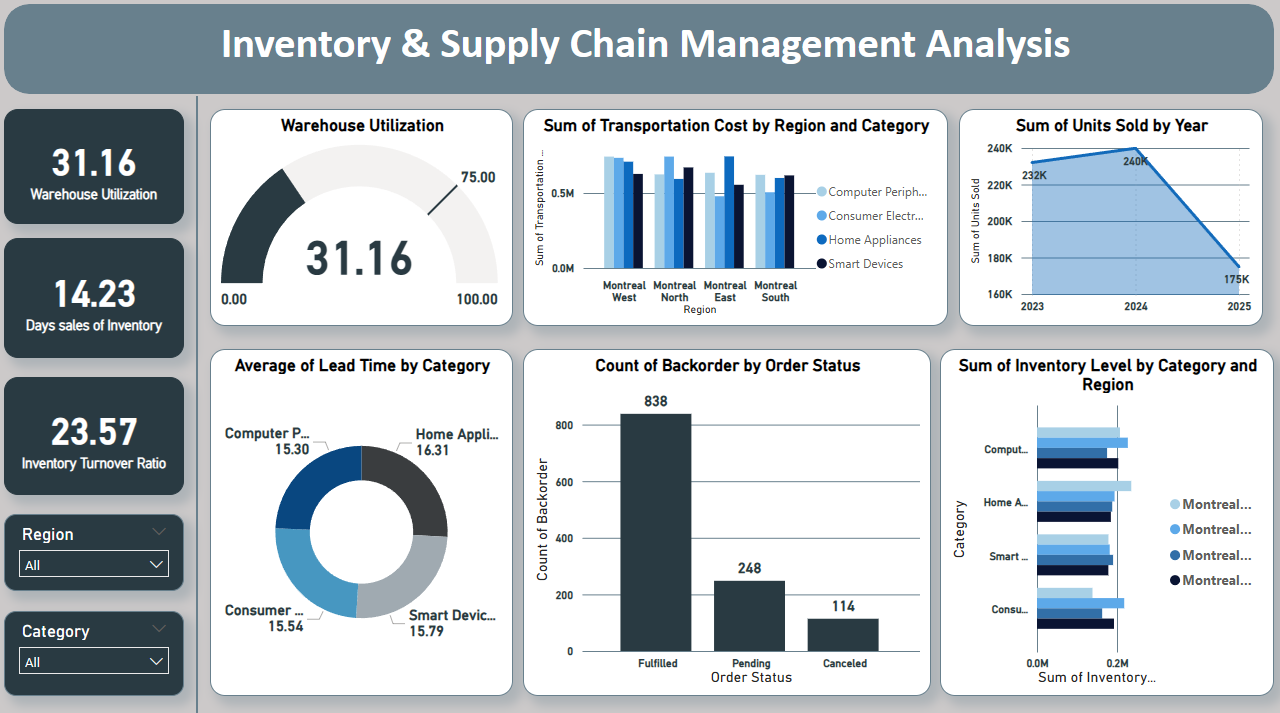

What the dashboard file says about the page in this screenshot:
{"tool":"powerbi","page":{"name":"Page 1","canvas":[1280,720],"ordinal":0},"visuals":[{"type":"shape","box":[10,5.6,1270,90],"z":0},{"type":"shape","box":[184.4,97.8,25.6,622.2],"z":2000},{"type":"card","fields":{"Values":["Inventory & Supply Chain Dataset.Warehouse Utilization"]},"box":[4.4,111.1,180,114.4],"z":3000},{"type":"card","fields":{"Values":["Inventory & Supply Chain Dataset.Days sales of Inventory"]},"box":[4.4,240,180,120],"z":4000},{"type":"card","fields":{"Values":["Inventory & Supply Chain Dataset.Inventory Turnover Ratio"]},"box":[4.4,378.9,180,117.8],"z":5000},{"type":"slicer","fields":{"Values":["Inventory & Supply Chain Dataset.Region"]},"box":[4.4,515.6,180,77.8],"z":6000},{"type":"slicer","fields":{"Values":["Inventory & Supply Chain Dataset.Category"]},"box":[4.4,613.3,180,84.4],"z":7000},{"type":"gauge","fields":{"Y":["Inventory & Supply Chain Dataset.Warehouse Utilization"]},"box":[210,111.1,303.3,216.7],"z":8000},{"type":"clusteredColumnChart","fields":{"Y":["Sum(Inventory & Supply Chain Dataset.Transportation Cost)"],"Category":["Inventory & Supply Chain Dataset.Region"],"Series":["Inventory & Supply Chain Dataset.Category"]},"box":[523.3,111.1,424.4,216.7],"z":9000},{"type":"lineChart","title":"Sum of Units Sold by Year","fields":{"Y":["Sum(Inventory & Supply Chain Dataset.Units Sold)"],"Category":["SmartInventory360_Dataset_DatesFixed.Date"]},"box":[958.9,111.1,304.4,216.7],"z":10000},{"type":"donutChart","fields":{"Y":["Avg(Inventory & Supply Chain Dataset.Lead Time)"],"Category":["Inventory & Supply Chain Dataset.Category"]},"box":[210,351.1,303.3,346.7],"z":11000},{"type":"columnChart","fields":{"Y":["CountNonNull(Inventory & Supply Chain Dataset.Backorder)"],"Category":["Inventory & Supply Chain Dataset.Order Status"]},"box":[523.3,351.1,407.8,346.7],"z":12000},{"type":"clusteredBarChart","fields":{"Y":["Sum(Inventory & Supply Chain Dataset.Inventory Level)"],"Category":["Inventory & Supply Chain Dataset.Category"],"Series":["Inventory & Supply Chain Dataset.Region"]},"box":[940,351.1,334.4,346.7],"z":12001},{"type":"textbox","box":[197.8,13.3,900,74.4],"z":12002}]}

Visuals, with their boxes in screenshot pixels (x1, y1, x2, y2), scaled from the page's 1280x720 canvas onto the 1280x713 screenshot:
shape: (left=10, top=6, right=1279, bottom=95)
shape: (left=184, top=97, right=210, bottom=712)
card - Inventory & Supply Chain Dataset.Warehouse Utilization: (left=4, top=110, right=184, bottom=223)
card - Inventory & Supply Chain Dataset.Days sales of Inventory: (left=4, top=238, right=184, bottom=356)
card - Inventory & Supply Chain Dataset.Inventory Turnover Ratio: (left=4, top=375, right=184, bottom=492)
slicer - Inventory & Supply Chain Dataset.Region: (left=4, top=511, right=184, bottom=588)
slicer - Inventory & Supply Chain Dataset.Category: (left=4, top=607, right=184, bottom=691)
gauge - Inventory & Supply Chain Dataset.Warehouse Utilization: (left=210, top=110, right=513, bottom=325)
clusteredColumnChart - Sum(Inventory & Supply Chain Dataset.Transportation Cost) x Inventory & Supply Chain Dataset.Region: (left=523, top=110, right=948, bottom=325)
"Sum of Units Sold by Year" lineChart: (left=959, top=110, right=1263, bottom=325)
donutChart - Avg(Inventory & Supply Chain Dataset.Lead Time) x Inventory & Supply Chain Dataset.Category: (left=210, top=348, right=513, bottom=691)
columnChart - CountNonNull(Inventory & Supply Chain Dataset.Backorder) x Inventory & Supply Chain Dataset.Order Status: (left=523, top=348, right=931, bottom=691)
clusteredBarChart - Sum(Inventory & Supply Chain Dataset.Inventory Level) x Inventory & Supply Chain Dataset.Category: (left=940, top=348, right=1274, bottom=691)
textbox: (left=198, top=13, right=1098, bottom=87)
